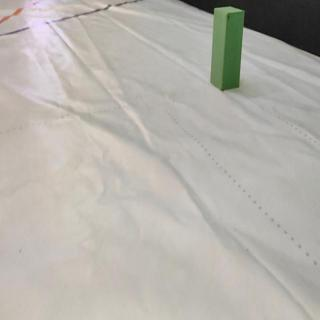greenbox: (209, 5, 245, 90)
